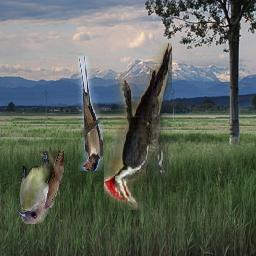Cuckoo: (18, 152, 65, 225)
Swallow: (79, 57, 104, 172)
Woodpecker: (104, 44, 172, 211)
